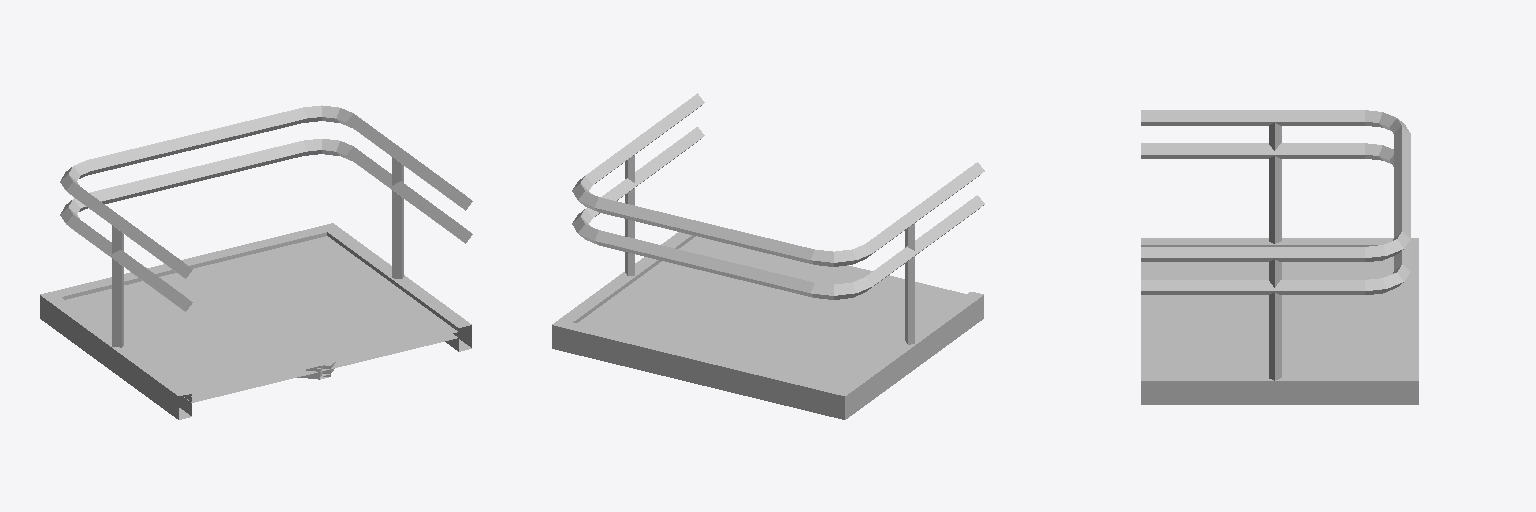
The model's file is Bridge_With_Railing_End.obj.
The picture shows the model from 3 angles: view 1: azimuth 30°, elevation 25°; view 2: azimuth 150°, elevation 25°; view 3: azimuth 270°, elevation 25°; orthographic projection.
Visible parts, largest first — view 1: Bridges_end; view 2: Bridges_end; view 3: Bridges_end.
Boxes of the visible parts, <box> form: Bridges_end: <box>40,105,472,419</box>; Bridges_end: <box>552,93,984,419</box>; Bridges_end: <box>1141,110,1418,404</box>.
Size of the model in its own units: 2.1 by 1.05 by 1.72.